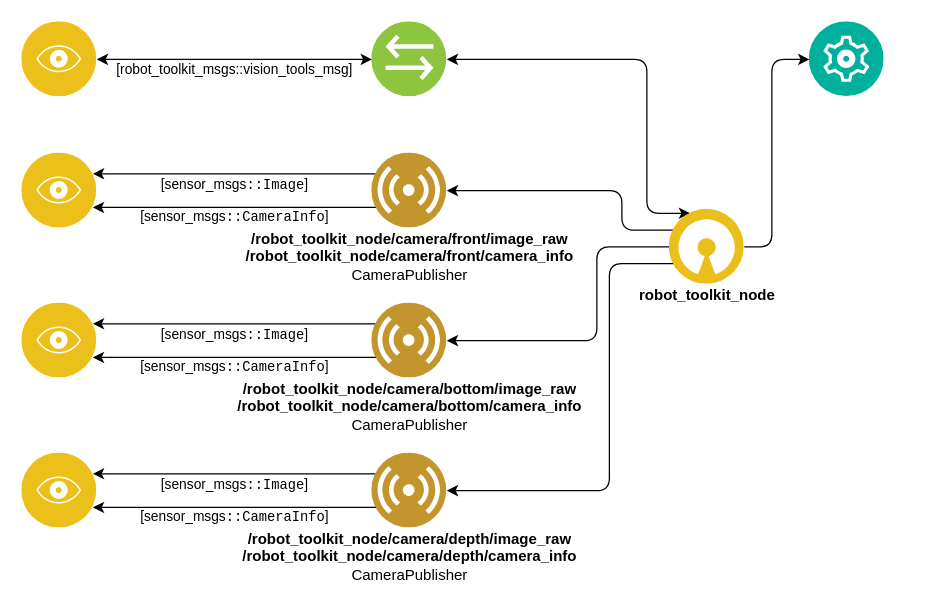
Image size: 931x605. Some labels were removed from this diagram. Here are the shapes that lost their labels. From the top down, the centre of each, then its label:
At (x=408, y=58): "/robot_tookit/vision_tools_service RobotToolkit::visionToolsSrv".
At (x=846, y=58): "CameraConverter".
